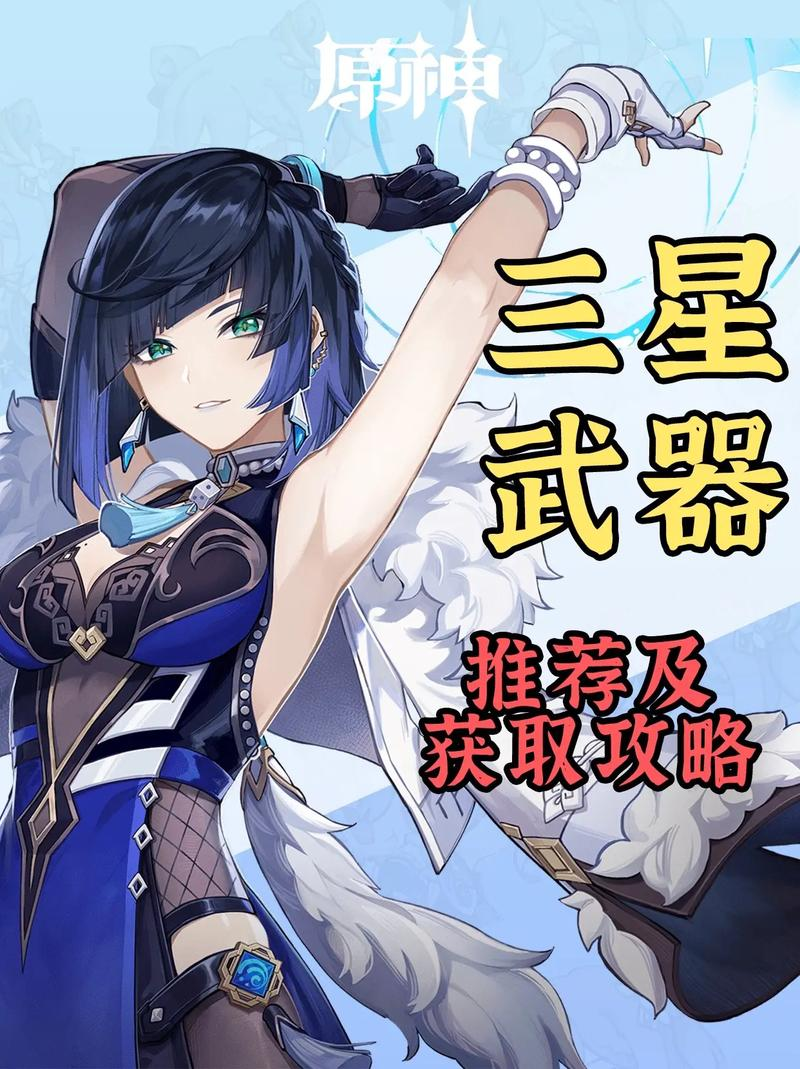夜兰: (1, 59, 734, 1068)
